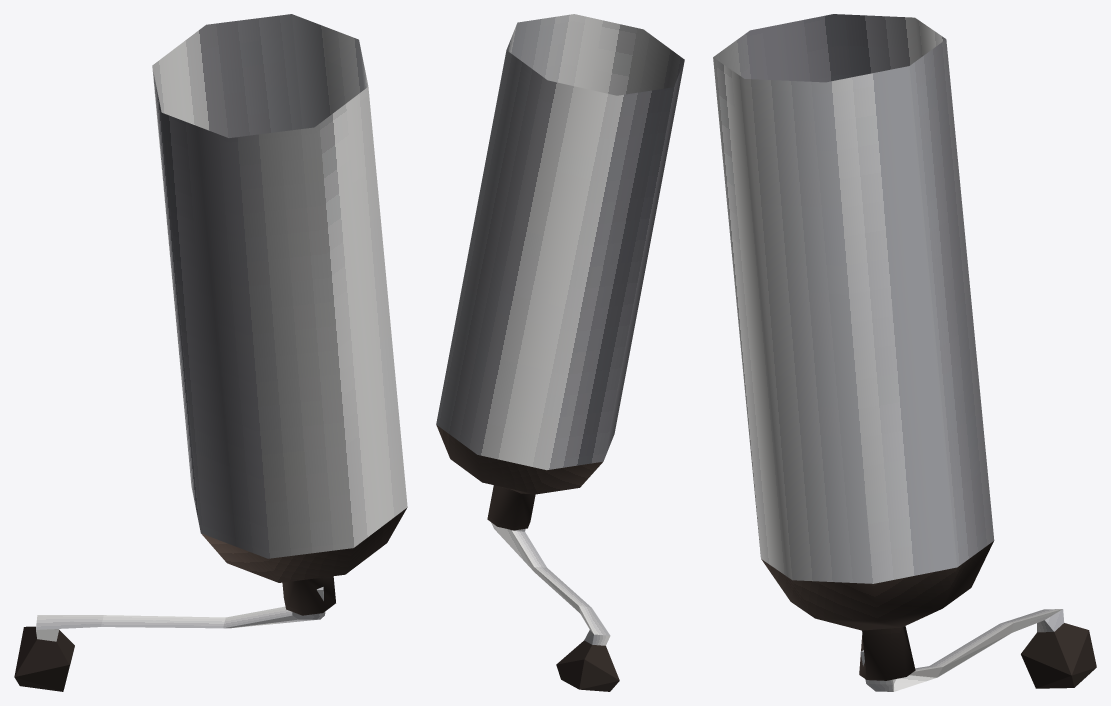
Rendered from H_CoffeeGrinder.fbx.
3 views of the same model, side by side, from view 1: azimuth 30°, elevation 25°; view 2: azimuth 150°, elevation 25°; view 3: azimuth 270°, elevation 25° (orthographic). The views are drawn at different scales.
Visible parts, largest first — view 1: CoffeGrinder; view 2: CoffeGrinder; view 3: CoffeGrinder.
Boxes of the visible parts, x1,y1,x2,y2 form: CoffeGrinder: [14, 14, 407, 691]; CoffeGrinder: [436, 14, 684, 691]; CoffeGrinder: [713, 14, 1096, 691].
Size of the model in its own units: 19.38 by 42.55 by 20.92.
